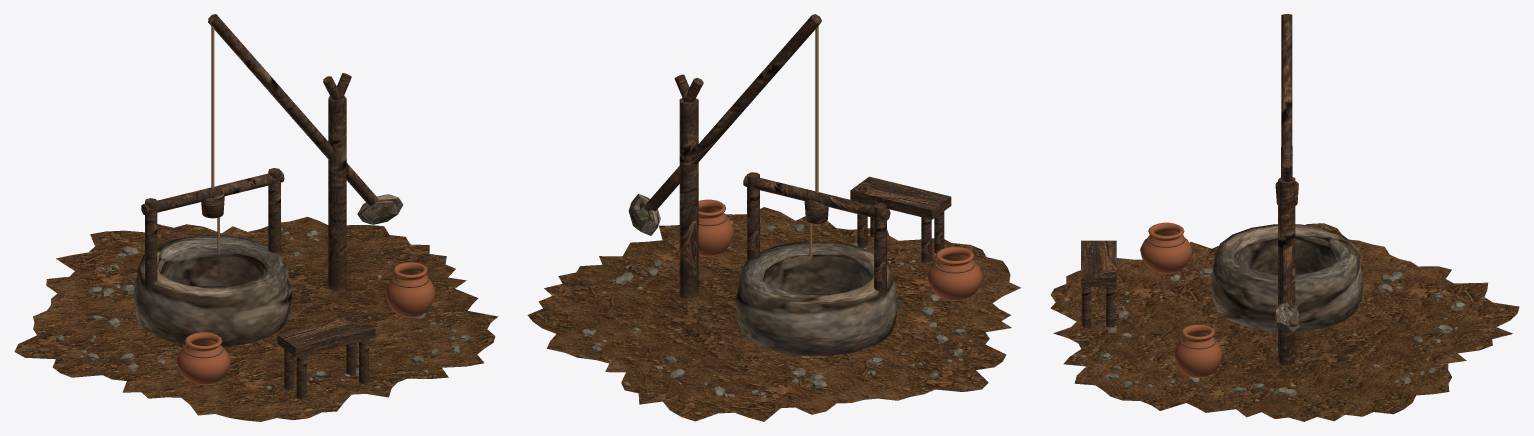
The model's file is well@2.glb.
3 views of the same model, side by side, from view 1: azimuth 30°, elevation 25°; view 2: azimuth 150°, elevation 25°; view 3: azimuth 270°, elevation 25° (orthographic). The views are drawn at different scales.
Parts seen in each view (by area): view 1: part_0, part_2, part_4, part_6, part_1, part_5; view 2: part_0, part_2, part_4, part_6, part_1, part_5; view 3: part_0, part_2, part_4, part_6, part_1.
Boxes of the visible parts, box(x1,y1,x2,y2) form: part_0: box(14, 217, 498, 421); part_2: box(133, 194, 403, 346); part_4: box(141, 14, 378, 399); part_6: box(176, 262, 435, 384); part_1: box(56, 228, 471, 389); part_5: box(211, 18, 219, 250); part_0: box(527, 207, 1021, 421); part_2: box(628, 193, 898, 355); part_4: box(645, 14, 951, 298); part_6: box(698, 199, 982, 300); part_1: box(580, 220, 966, 398); part_5: box(809, 18, 818, 257); part_0: box(1050, 223, 1519, 421); part_2: box(1210, 224, 1363, 333); part_4: box(1081, 14, 1298, 365); part_6: box(1140, 222, 1222, 377); part_1: box(1079, 268, 1466, 401).
Bounding box in the file's own units: 3.63 × 2.52 × 3.62.
8 materials, 4 textured.
